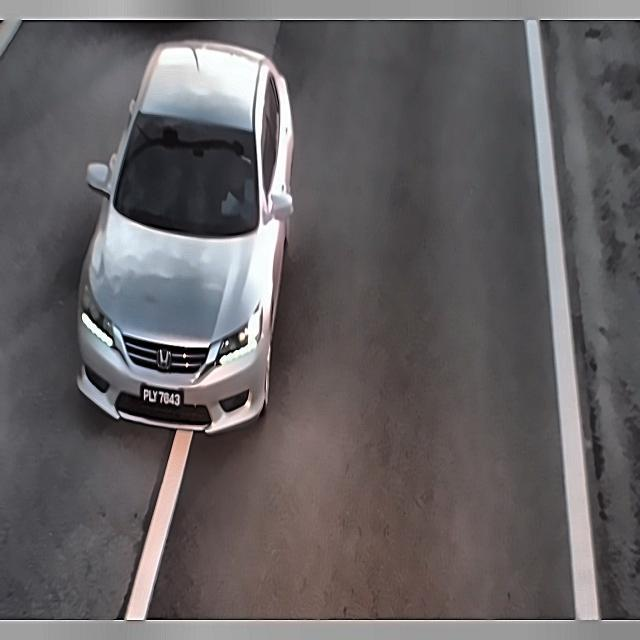car: (138, 381, 190, 412)
